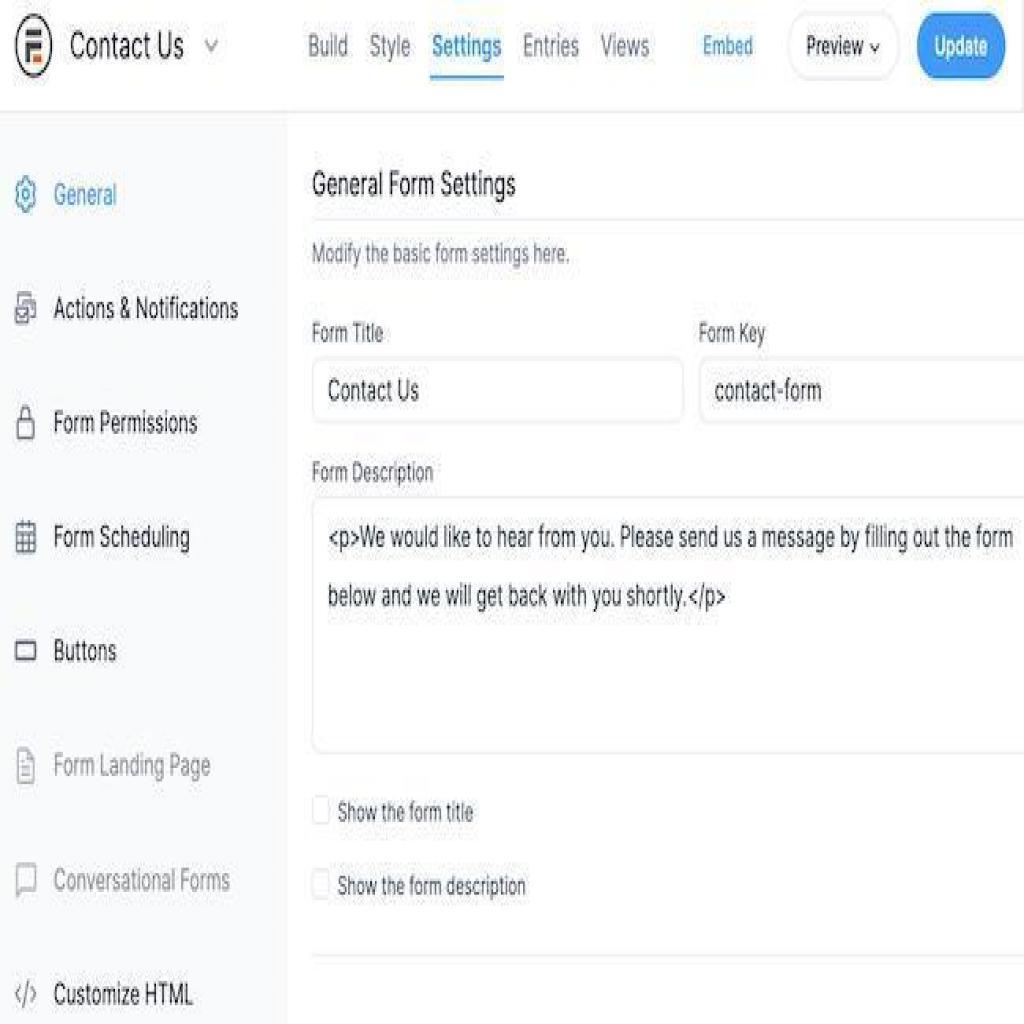button: (917, 11, 1007, 81), (427, 24, 504, 81)
checkbox: (310, 868, 330, 897), (312, 795, 329, 825)
dropdown: (789, 11, 898, 78)
icon: (11, 14, 54, 78), (11, 504, 46, 569), (8, 846, 38, 908), (14, 962, 43, 1021), (11, 744, 41, 795), (14, 399, 40, 453), (13, 286, 41, 336), (16, 172, 41, 218), (11, 631, 38, 671)
input: (315, 356, 685, 420), (699, 356, 1024, 423)
label: (310, 167, 520, 210), (50, 857, 235, 905), (52, 288, 246, 329), (50, 744, 216, 787), (337, 870, 529, 903), (53, 973, 197, 1016), (52, 517, 197, 558), (52, 407, 203, 445), (337, 795, 479, 833), (307, 456, 438, 490), (306, 313, 394, 350), (50, 170, 123, 213), (54, 633, 124, 674), (301, 19, 354, 67), (599, 22, 657, 64), (696, 315, 768, 348), (364, 24, 411, 68), (520, 32, 581, 65), (700, 32, 756, 65)
